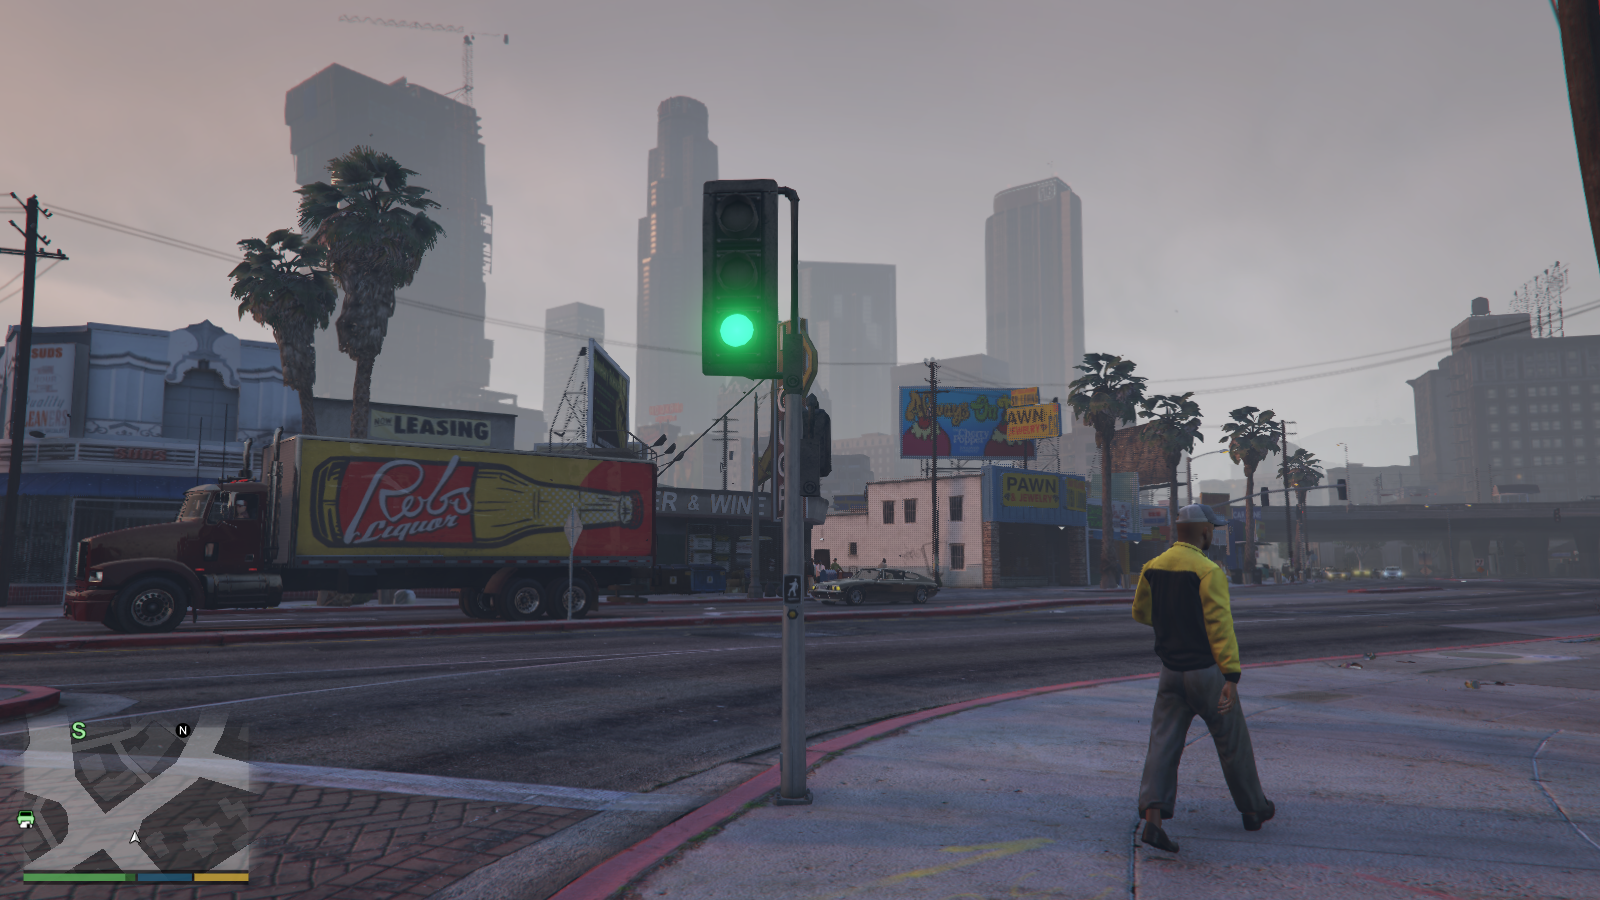green: (700, 179, 781, 378)
